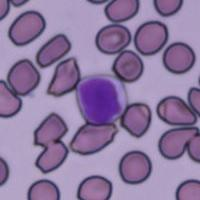L: (76, 74, 128, 125)
